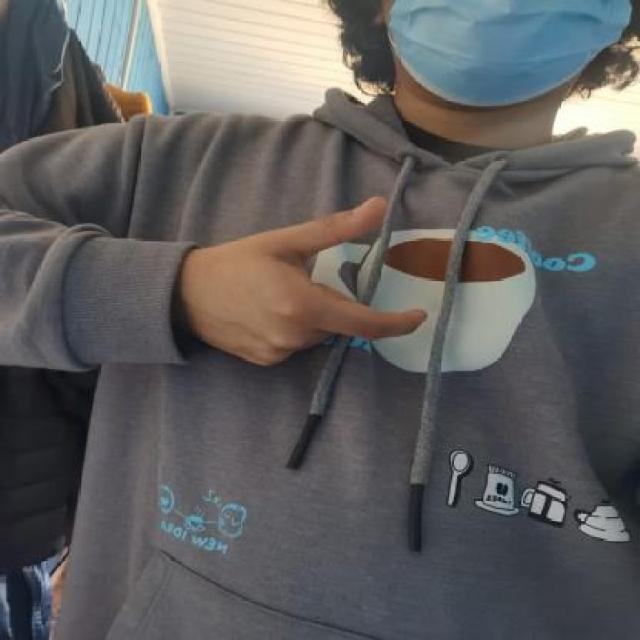G: (164, 178, 450, 380)
